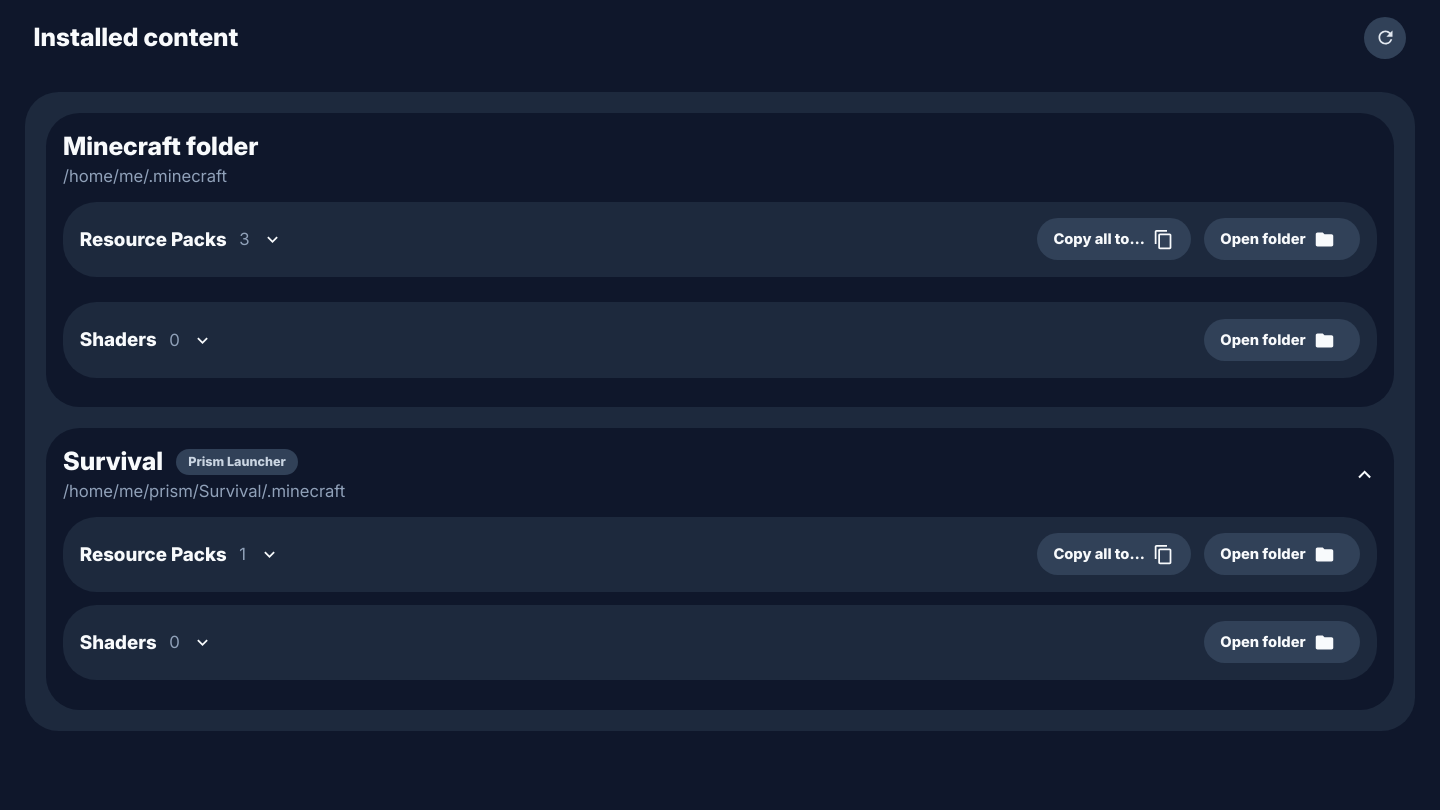
Test: InstalledContentPage — copying between locations › offers copy all while the section is folded
Click the button with aria-label "Copy all Resource Packs of Minecraft folder somewhere else".
click(1114, 239)  # box [1037,218,1191,260]
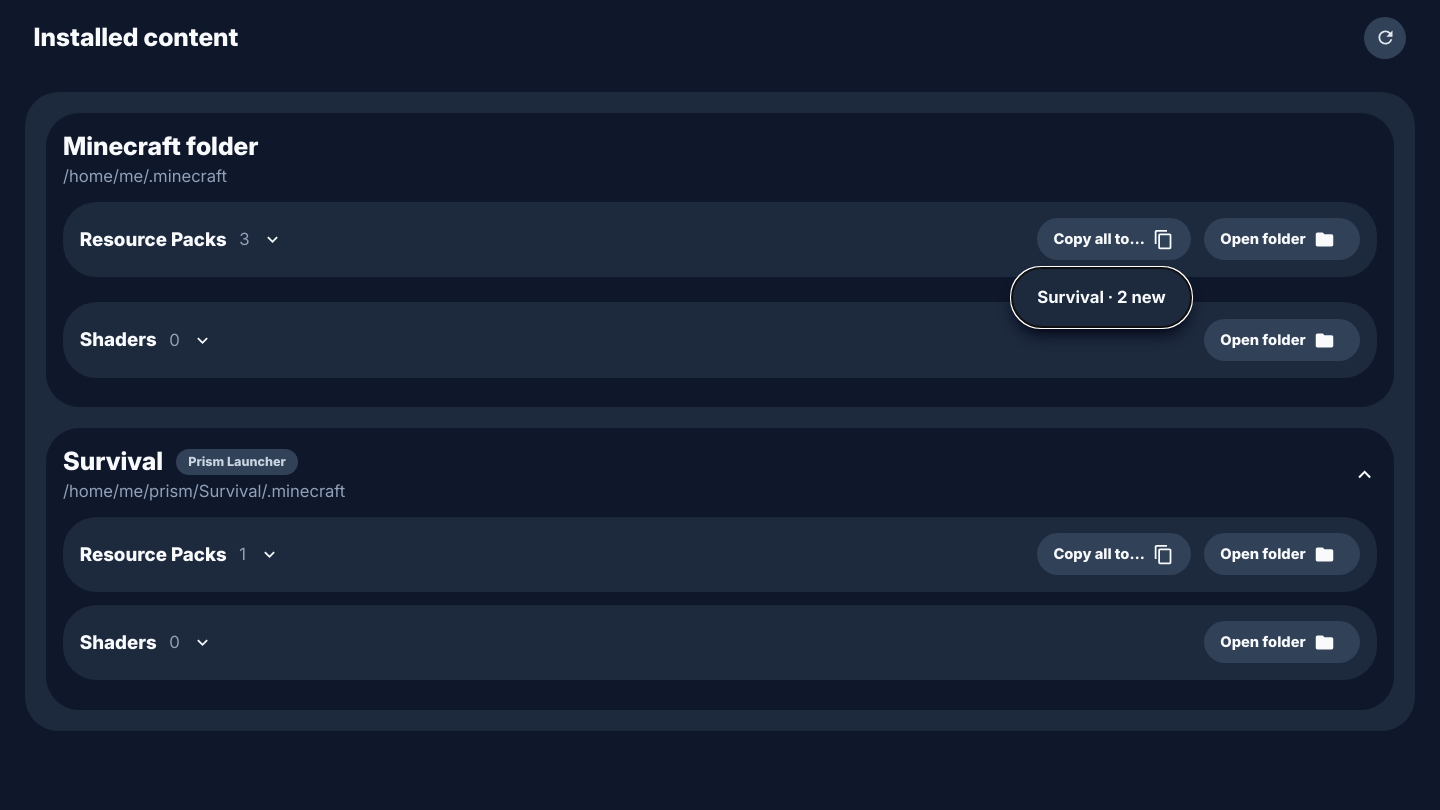
Expected: the menu item "Survival · 2 new" is shown, [1020,276,1182,318]
